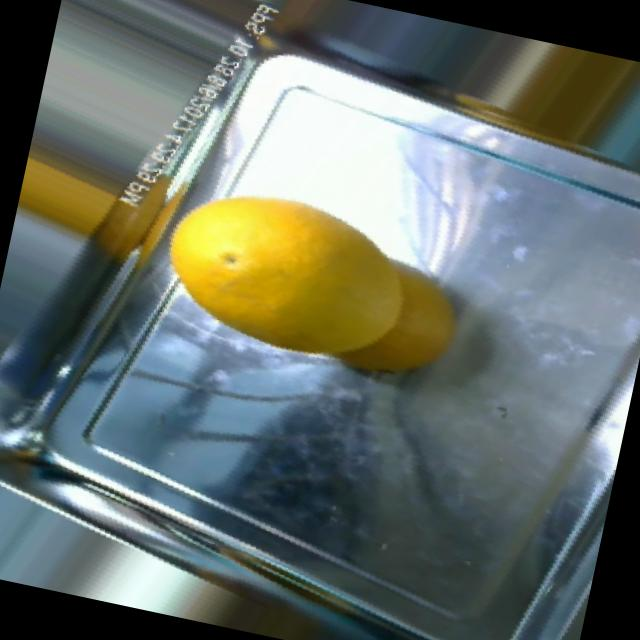Fruit: (278, 212, 493, 414)
